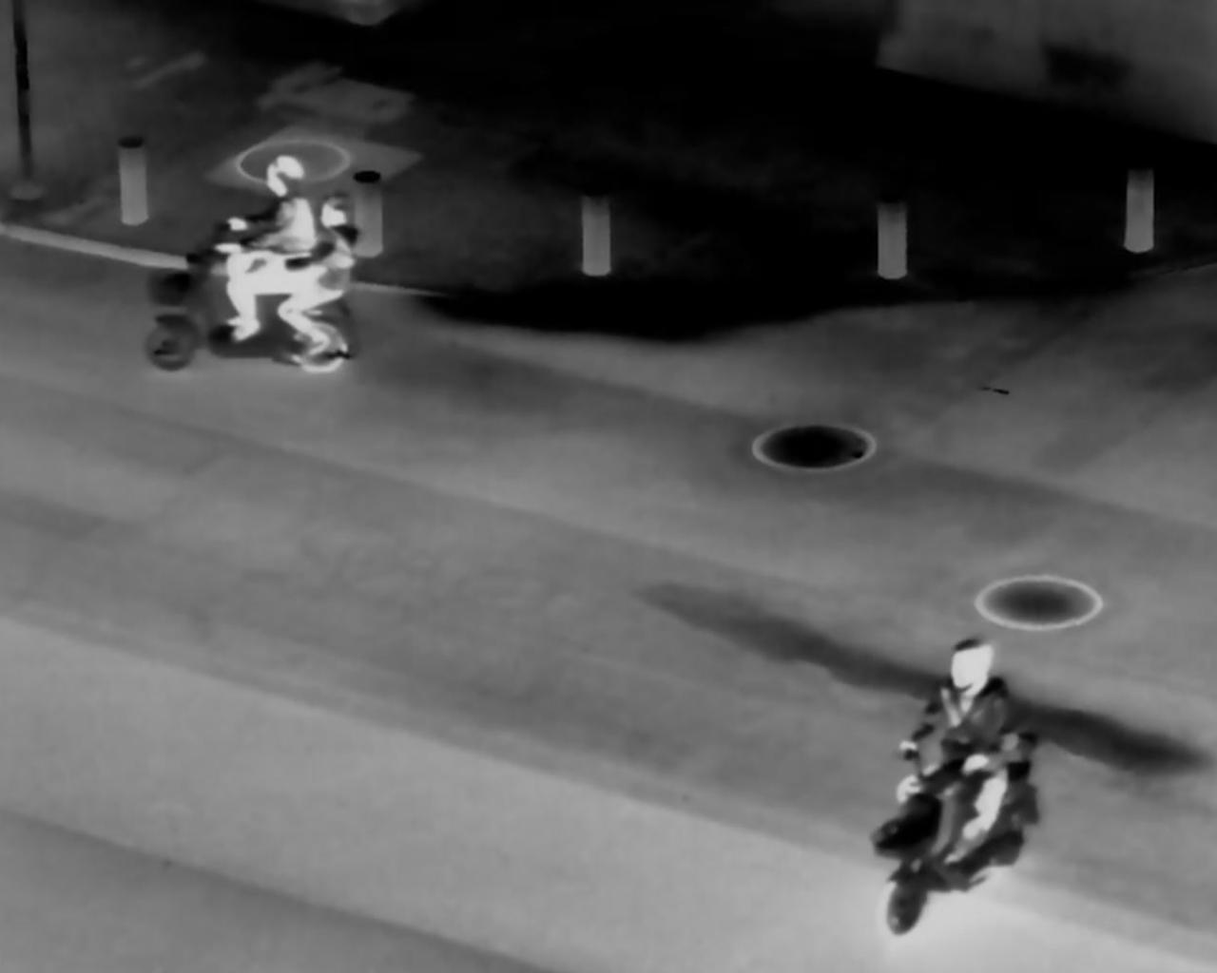person: (913, 629, 1010, 857), (209, 152, 324, 344), (302, 197, 359, 342)
